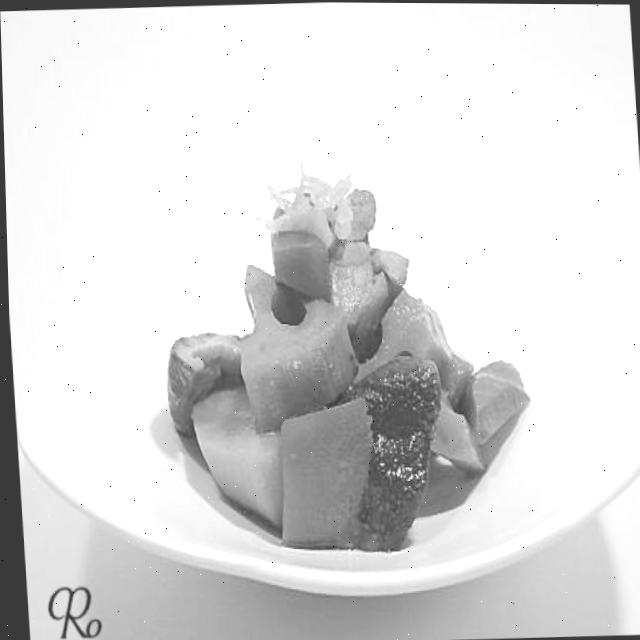鸡肉料理 含炸鸡: (110, 117, 548, 600)
